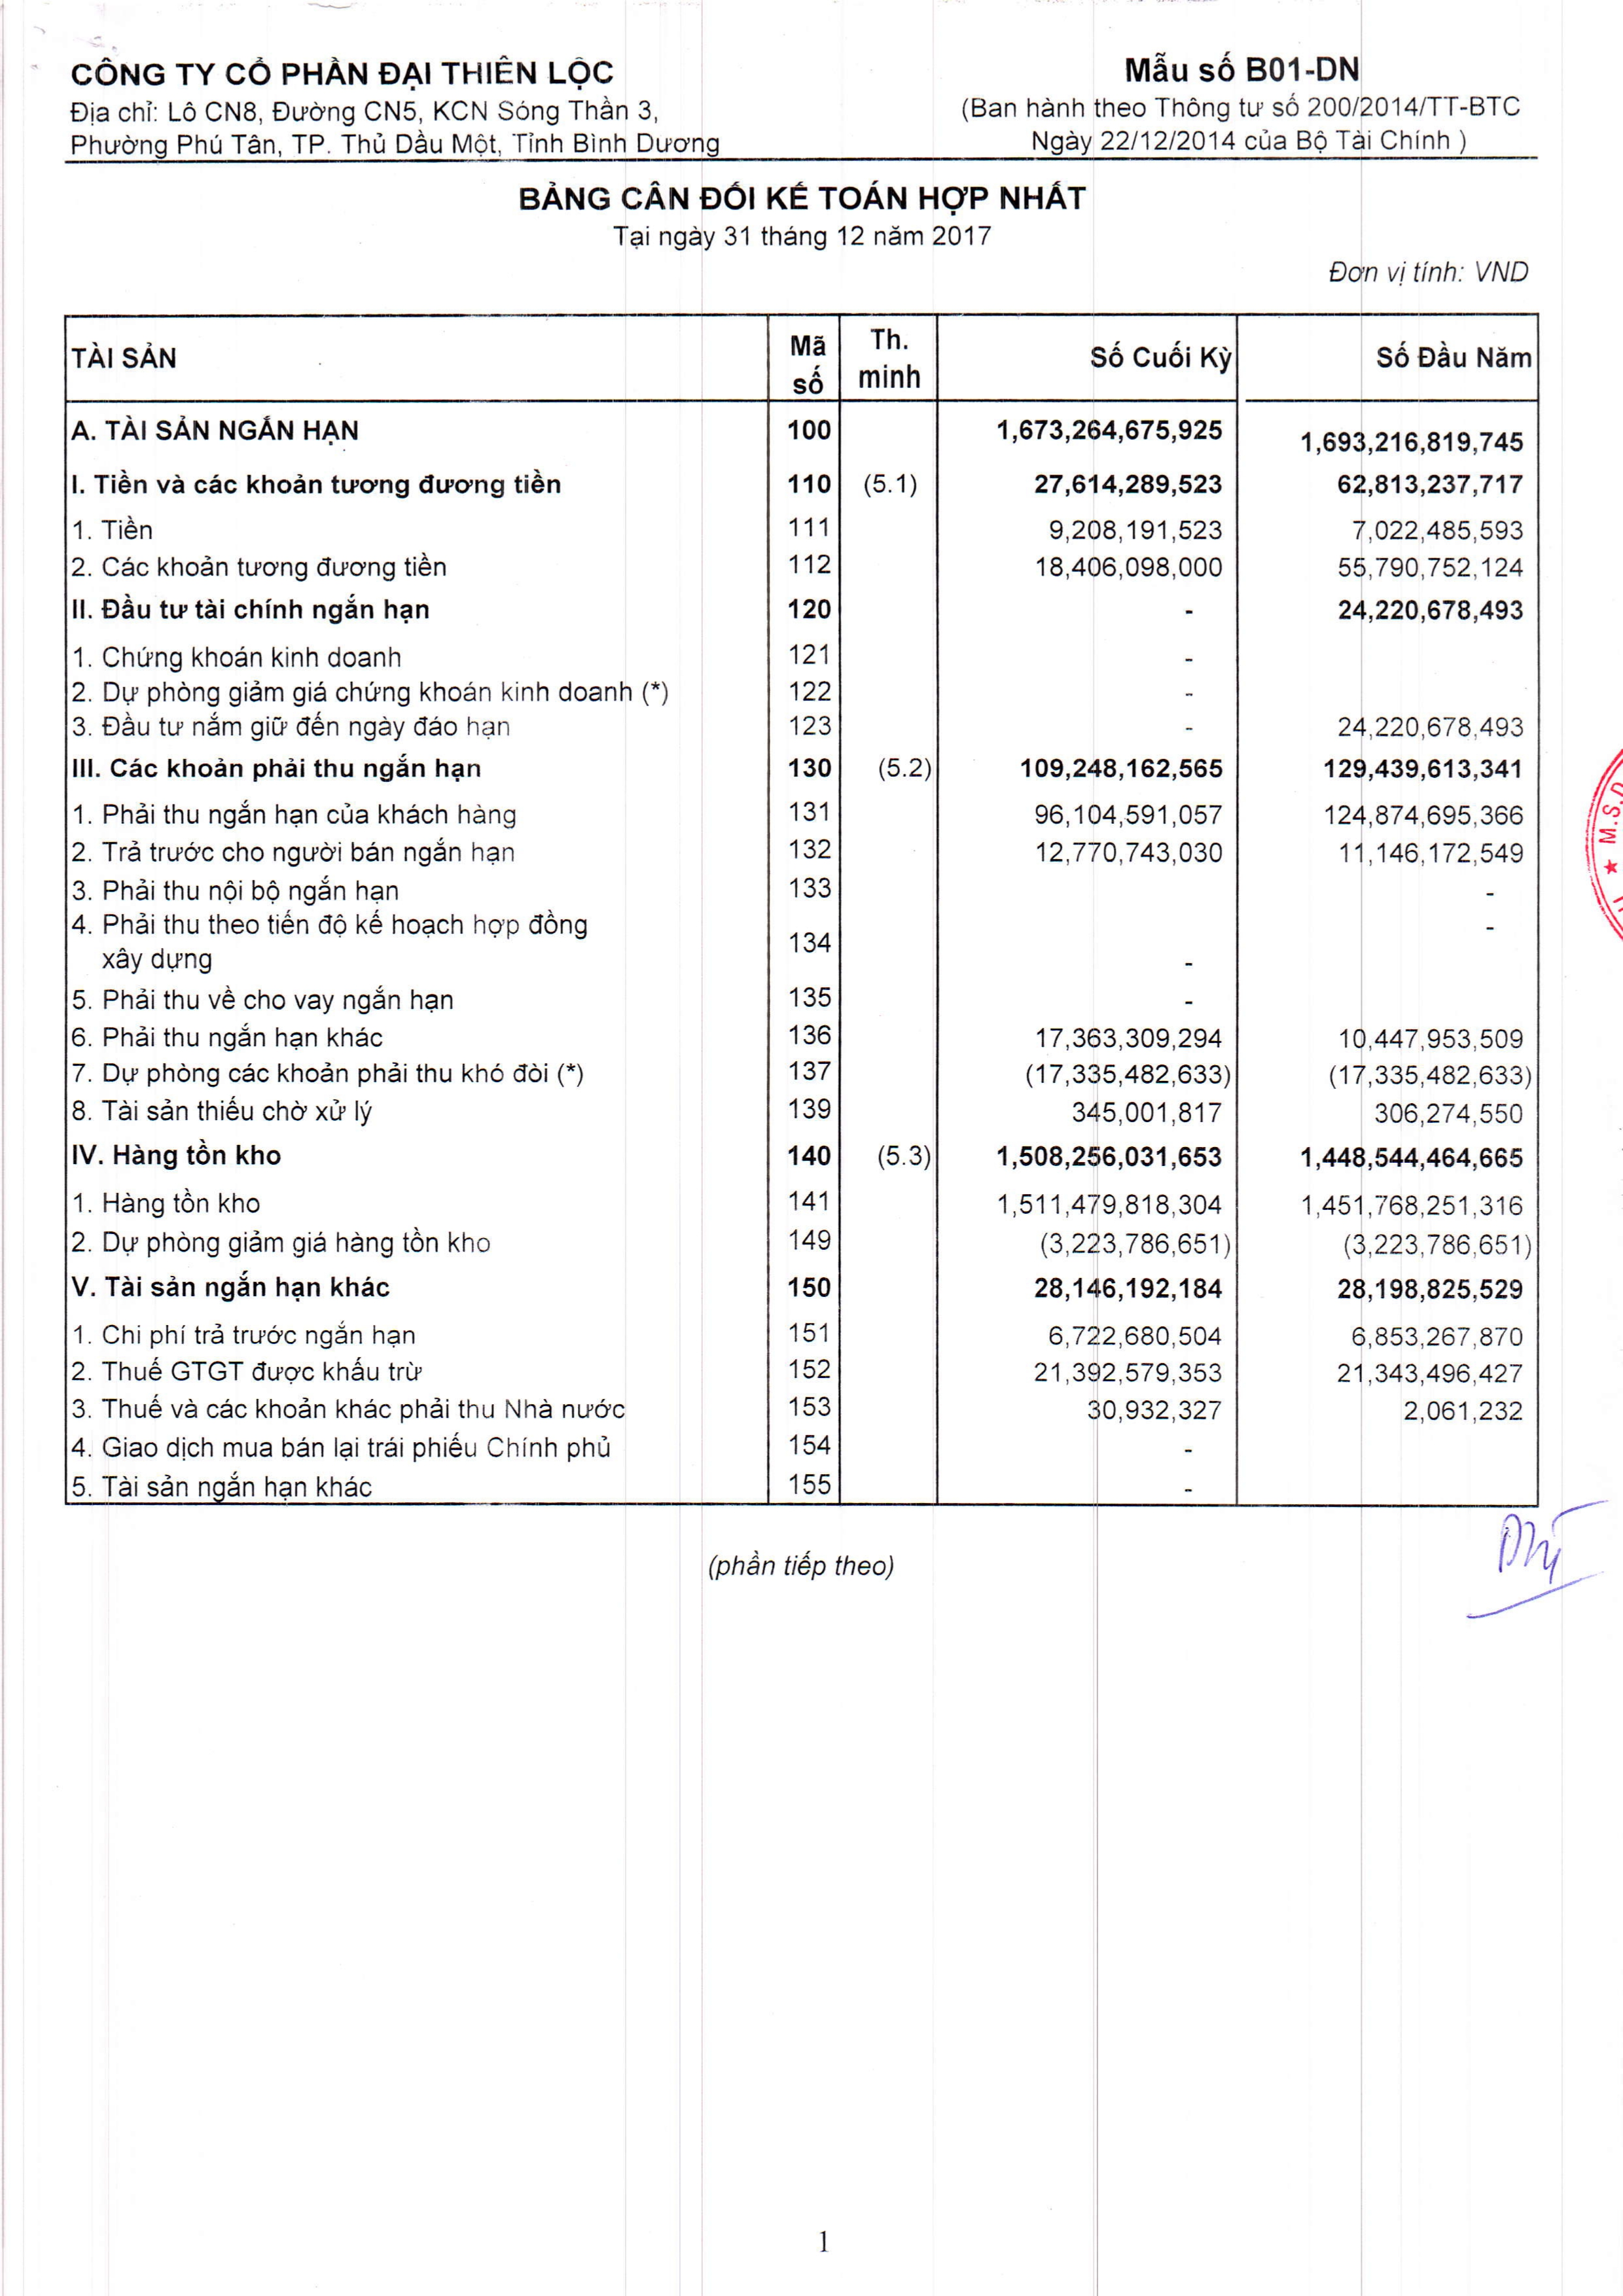table: (53, 300, 1551, 1517)
table column: (72, 300, 696, 1517), (973, 300, 1231, 1517), (1273, 300, 1532, 1517), (852, 300, 934, 1517), (771, 300, 841, 1517)
table column header: (53, 312, 1551, 407)
table row: (53, 908, 1551, 974), (53, 330, 1551, 395), (53, 409, 1551, 451), (53, 465, 1551, 506), (53, 795, 1551, 836), (53, 1132, 1551, 1173), (53, 978, 1551, 1016), (53, 1092, 1551, 1130), (53, 1260, 1551, 1299), (53, 1309, 1551, 1348), (53, 1385, 1551, 1424), (53, 513, 1551, 549), (53, 551, 1551, 588), (53, 590, 1551, 627), (53, 637, 1551, 674), (53, 1180, 1551, 1216), (53, 1220, 1551, 1257), (53, 751, 1551, 786), (53, 836, 1551, 871), (53, 872, 1551, 908), (53, 1016, 1551, 1051), (53, 1424, 1551, 1459), (53, 1460, 1551, 1496), (53, 709, 1551, 743), (53, 1057, 1551, 1090), (53, 1350, 1551, 1383), (53, 676, 1551, 707)
